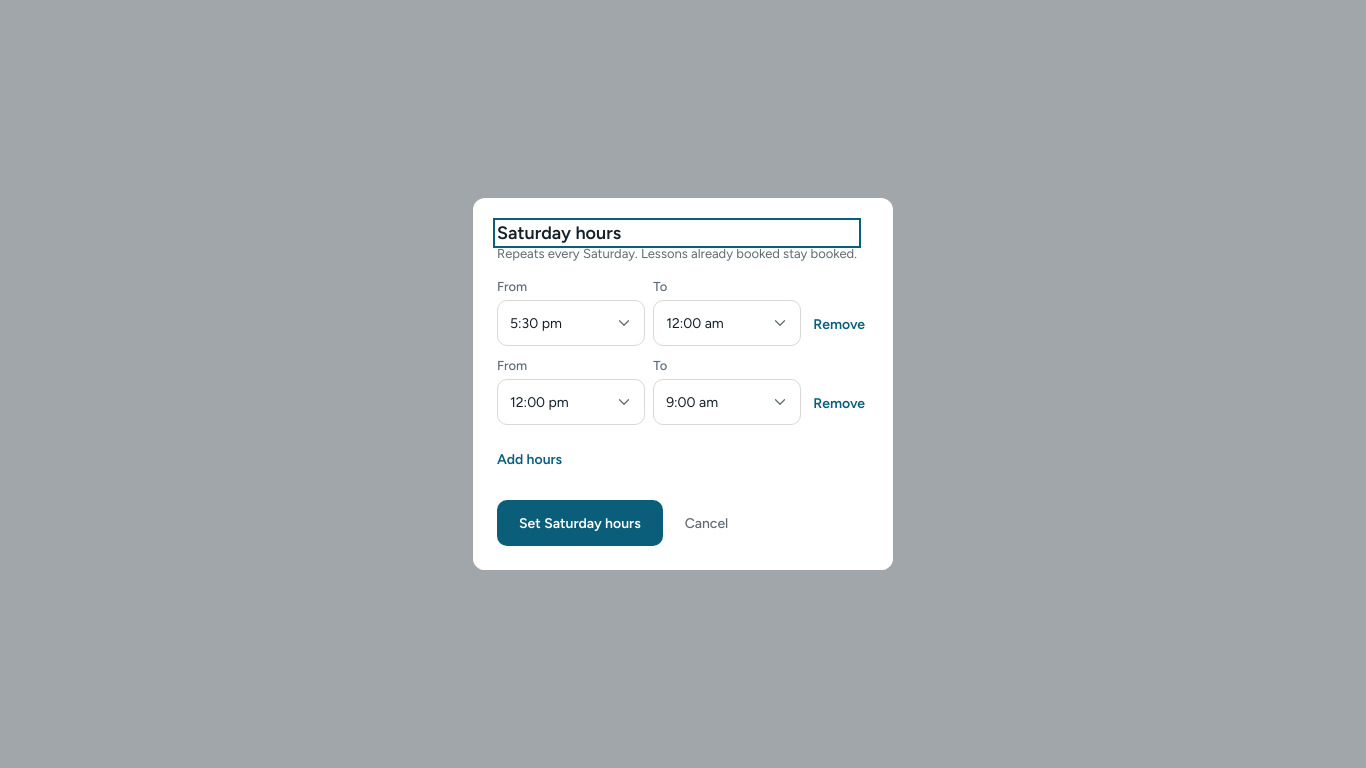
Test: EditDayHoursDialog › checks each range in order: "Choose", then the end, then 5:00 am–11:00 pm
This screenshot has width=1366, height=768.
Click the button "Add hours".
click(530, 459)  # box left=497, top=437, right=562, bottom=481
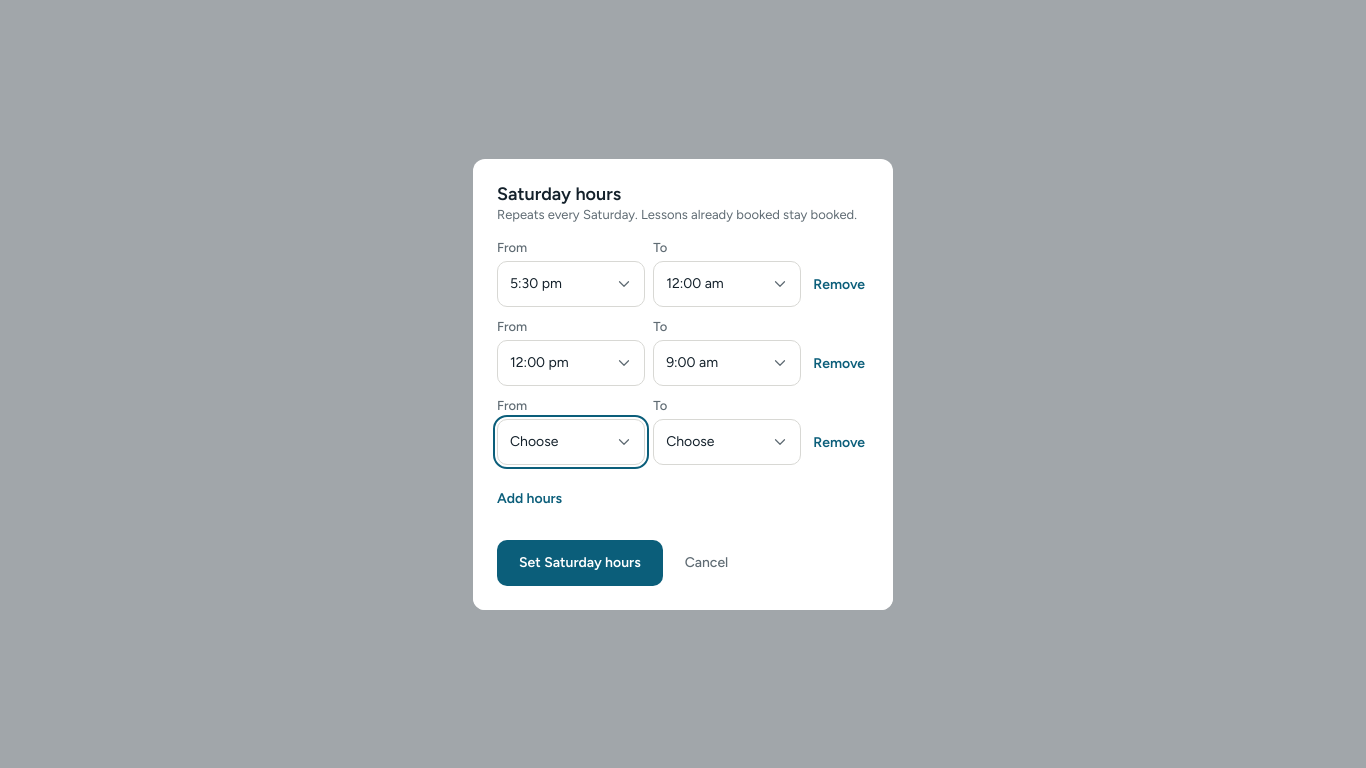
Select "1:00 pm" in the 3rd dropdown labelled "From" at coordinates (571, 442), box left=497, top=418, right=645, bottom=464
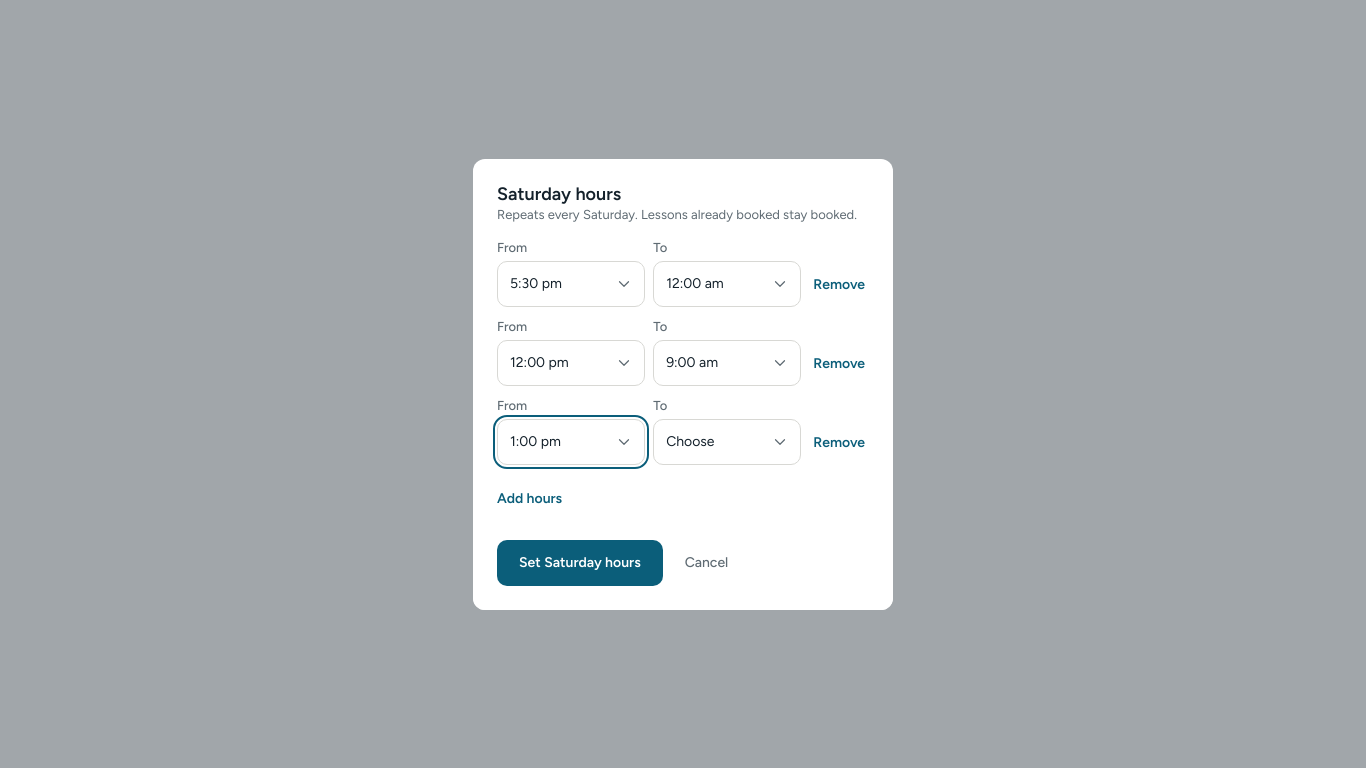
Click the button "Set Saturday hours".
click(580, 562)  # box left=497, top=540, right=663, bottom=586
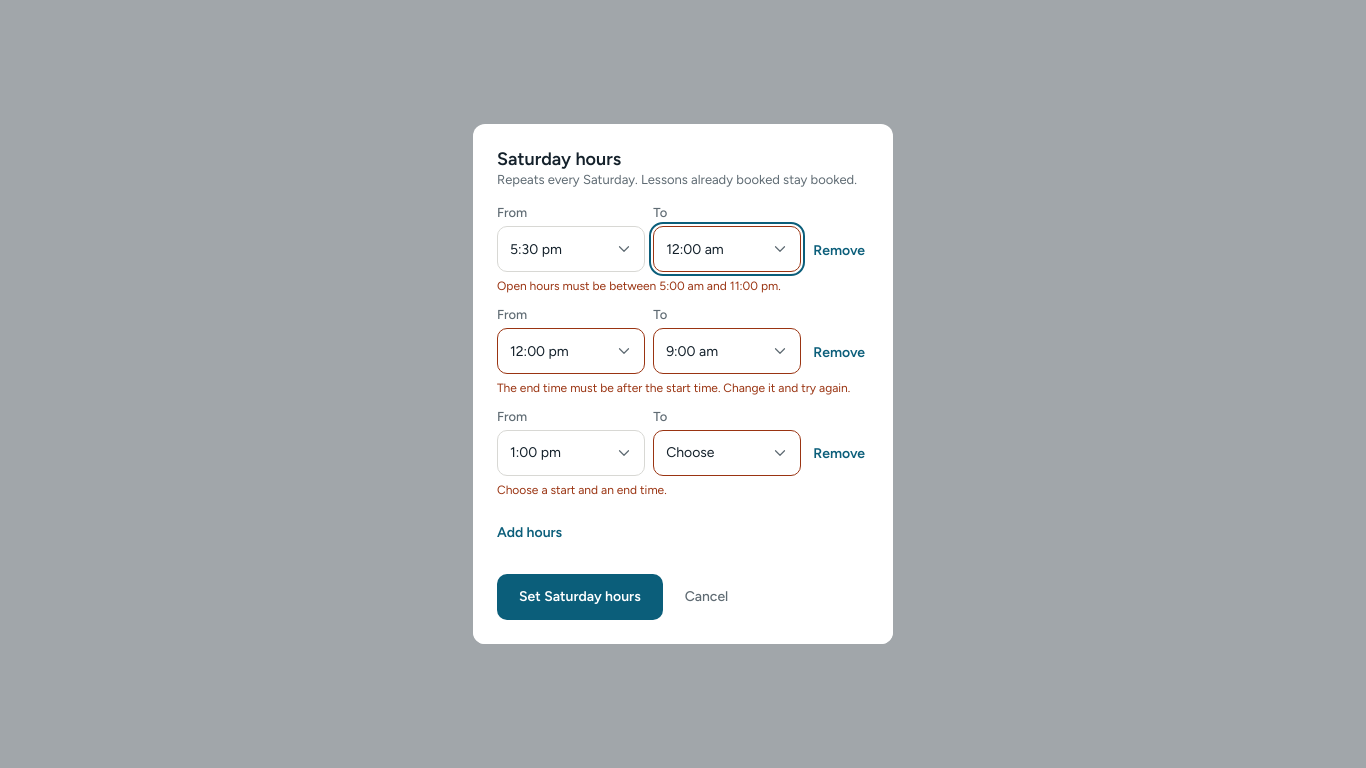
Check: the text "Open hours must be between 5:00 am and 11:00 pm." is shown, box left=497, top=279, right=781, bottom=293
Check: the text "The end time must be after the start time. Change it and try again." is shown, box left=497, top=380, right=869, bottom=397
